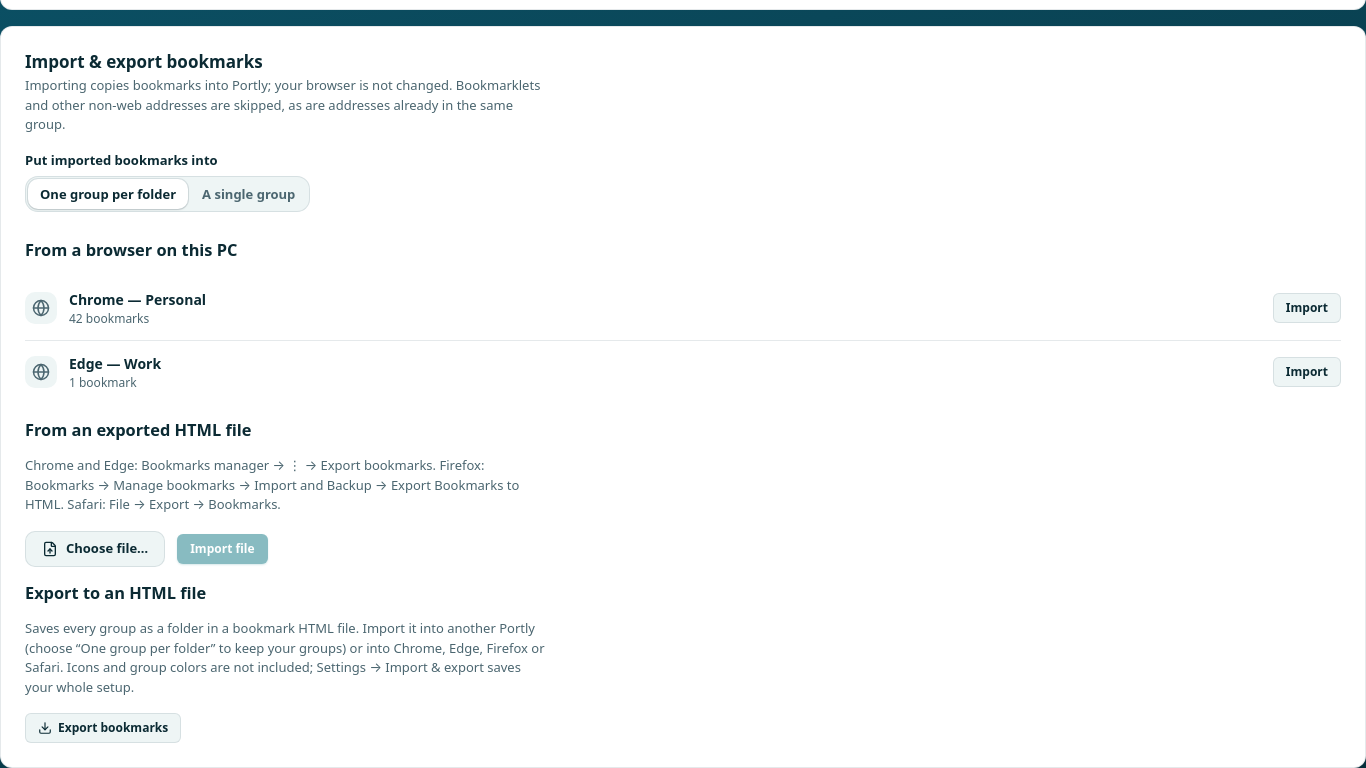
Test: Settings → Bookmarks › exports every group as a bookmark HTML file
(page scrolled)
Click the button "Export bookmarks".
click(103, 728)  # box [25,713,181,743]
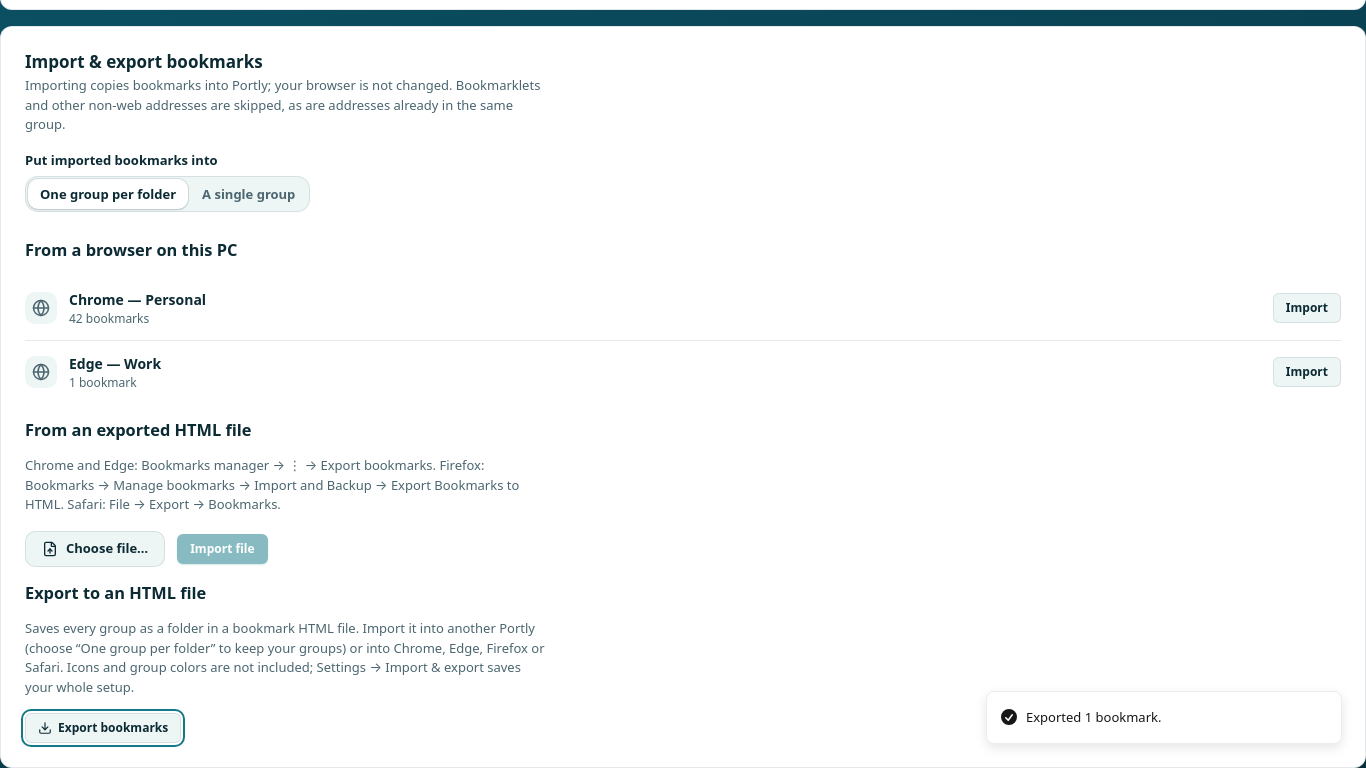
Check: the text "Exported 1 bookmark." is shown, box [1026,708,1162,727]
